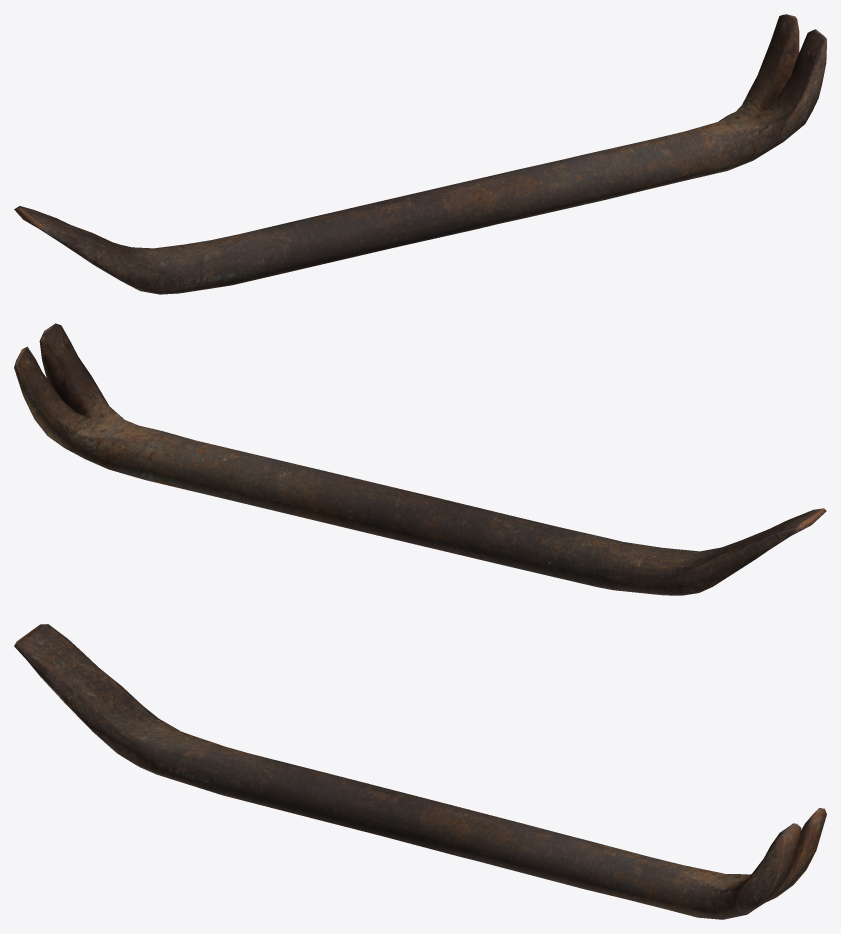
File: CrowBar.fbx
3 renders of one model, top to bottom at view 1: azimuth 30°, elevation 25°; view 2: azimuth 150°, elevation 25°; view 3: azimuth 330°, elevation 25°, orthographic.
Visible parts, largest first — view 1: low; view 2: low; view 3: low.
Part boxes in pixels (x1,y1,x2,y2): low: (14, 14, 826, 294); low: (14, 323, 826, 595); low: (14, 624, 826, 919).
Size of the model in its own units: 40.09 by 6.01 by 4.28.
Materials: 1 (1 with a texture image).
